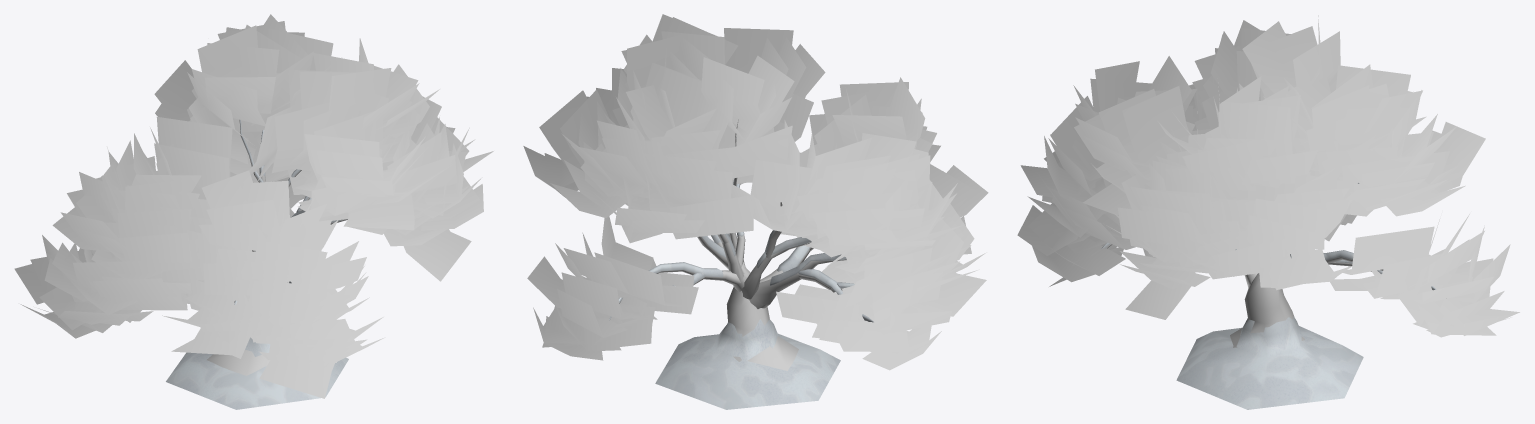
The model's file is Tree_Large_1_Snow.fbx.
3 views of the same model, side by side, from view 1: azimuth 30°, elevation 25°; view 2: azimuth 150°, elevation 25°; view 3: azimuth 270°, elevation 25° (orthographic). The views are drawn at different scales.
Parts seen in each view (by area): view 1: Tree_Large_1_Snow_LOD0, Tree_Large_1_Snow_Colider; view 2: Tree_Large_1_Snow_LOD0, Tree_Large_1_Snow_Colider; view 3: Tree_Large_1_Snow_LOD0, Tree_Large_1_Snow_Colider.
Boxes of the visible parts, <box> form: Tree_Large_1_Snow_LOD0: <box>14,14,493,409</box>; Tree_Large_1_Snow_Colider: <box>207,349,270,375</box>; Tree_Large_1_Snow_LOD0: <box>523,14,988,409</box>; Tree_Large_1_Snow_Colider: <box>726,286,798,370</box>; Tree_Large_1_Snow_LOD0: <box>1017,15,1519,409</box>; Tree_Large_1_Snow_Colider: <box>1230,274,1304,347</box>.
Size of what is drawn, in the model's own units: 3158 by 2261 by 2999.
